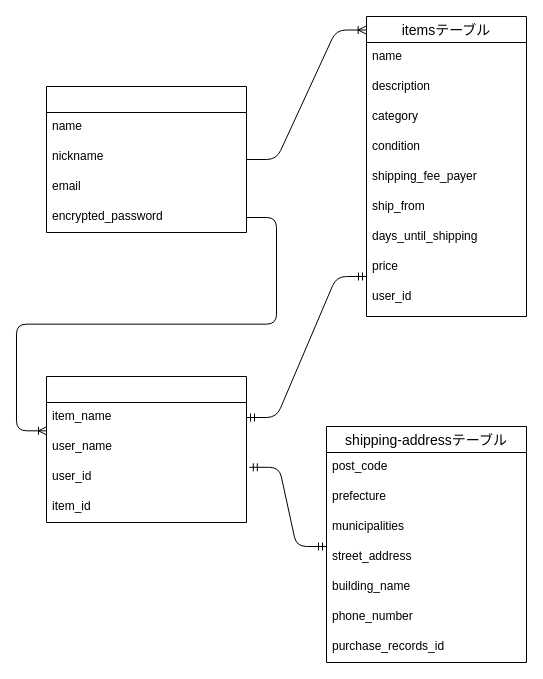
This 543x679 diagram has some shape labels left out. The box of each missing label's shape, as (x1, y1, x2, y2) in pixels:
purchase-recordsテーブル: (46, 376, 246, 522)
usersテーブル: (46, 86, 246, 232)
